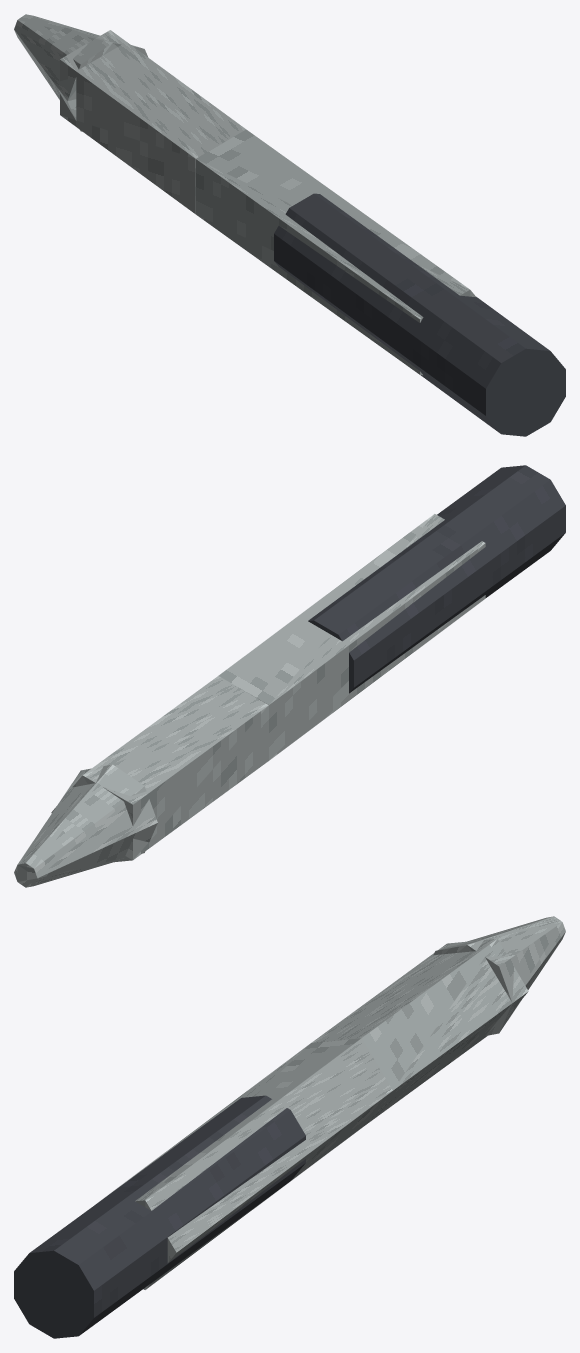
File: pin_reamer.glb
The picture shows the model from 3 angles, top to bottom: view 1: azimuth 30°, elevation 25°; view 2: azimuth 150°, elevation 25°; view 3: azimuth 330°, elevation 25°; orthographic projection.
Parts seen in each view (by area): view 1: block_hand grip, block_steel shaft 0, block_steel shaft 1, block_working tip; view 2: block_hand grip, block_steel shaft 0, block_steel shaft 1, block_working tip; view 3: block_hand grip, block_steel shaft 1, block_steel shaft 0, block_working tip.
Boxes of the visible parts, x1,y1,x2,y2 form: block_hand grip: (274, 193, 565, 436); block_steel shaft 0: (60, 30, 245, 214); block_steel shaft 1: (196, 129, 476, 375); block_working tip: (14, 14, 148, 131); block_hand grip: (308, 465, 565, 693); block_steel shaft 0: (51, 676, 268, 862); block_steel shaft 1: (218, 514, 485, 760); block_working tip: (14, 764, 157, 887); block_hand grip: (14, 1095, 305, 1338); block_steel shaft 1: (102, 1038, 392, 1289); block_steel shaft 0: (311, 938, 528, 1127); block_working tip: (433, 916, 565, 1035).
Bounding box in the file's own units: 0.0141 × 0.0136 × 0.13.
1 material, 1 textured.
